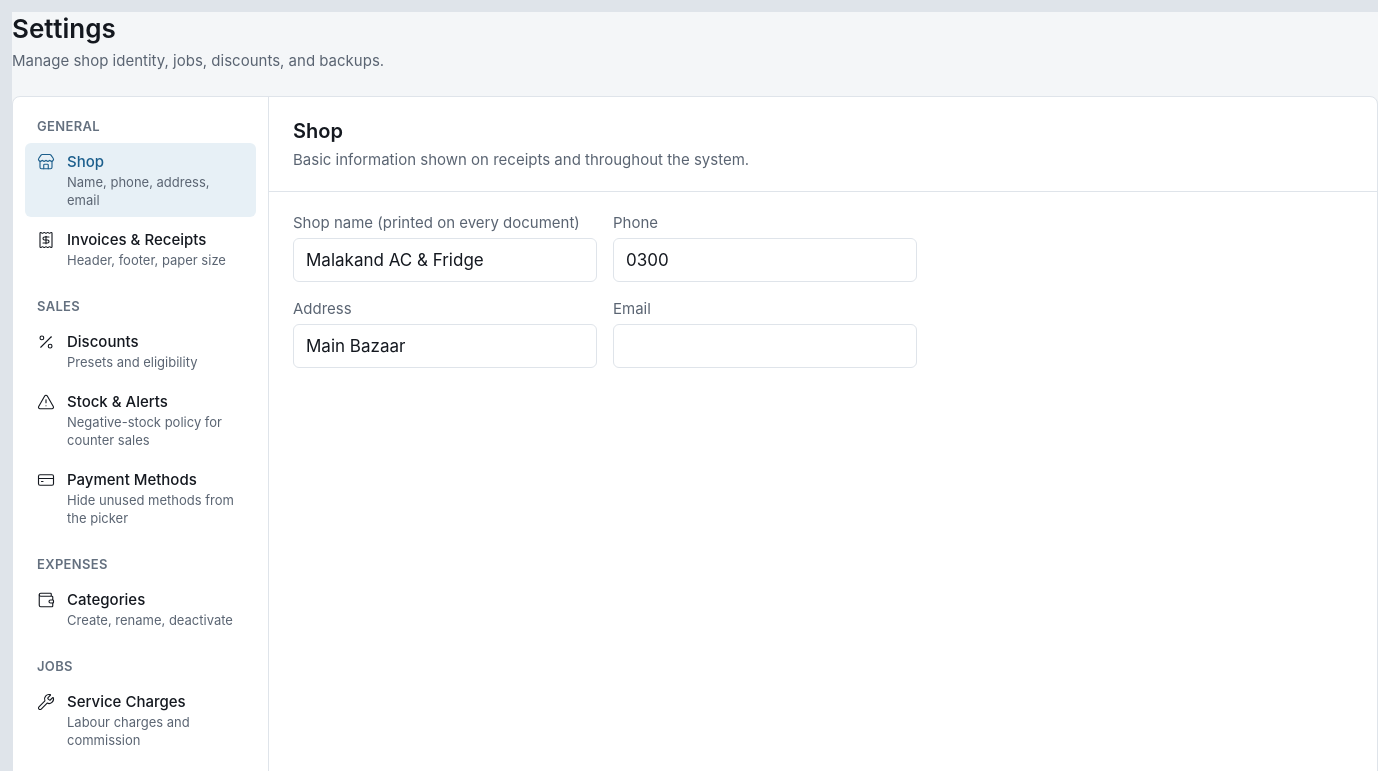
Test: SettingsPage — P16-1b routing (OD-16-11) › clicking "Discounts" in the sub-nav routes to its section and shows its title
Expected: the text "Basic information shown on receipts and throughout the system." is shown, 293,150 -> 749,169
Click the link "Discounts Presets and eligibility": click(117, 351) 37,332 -> 198,370
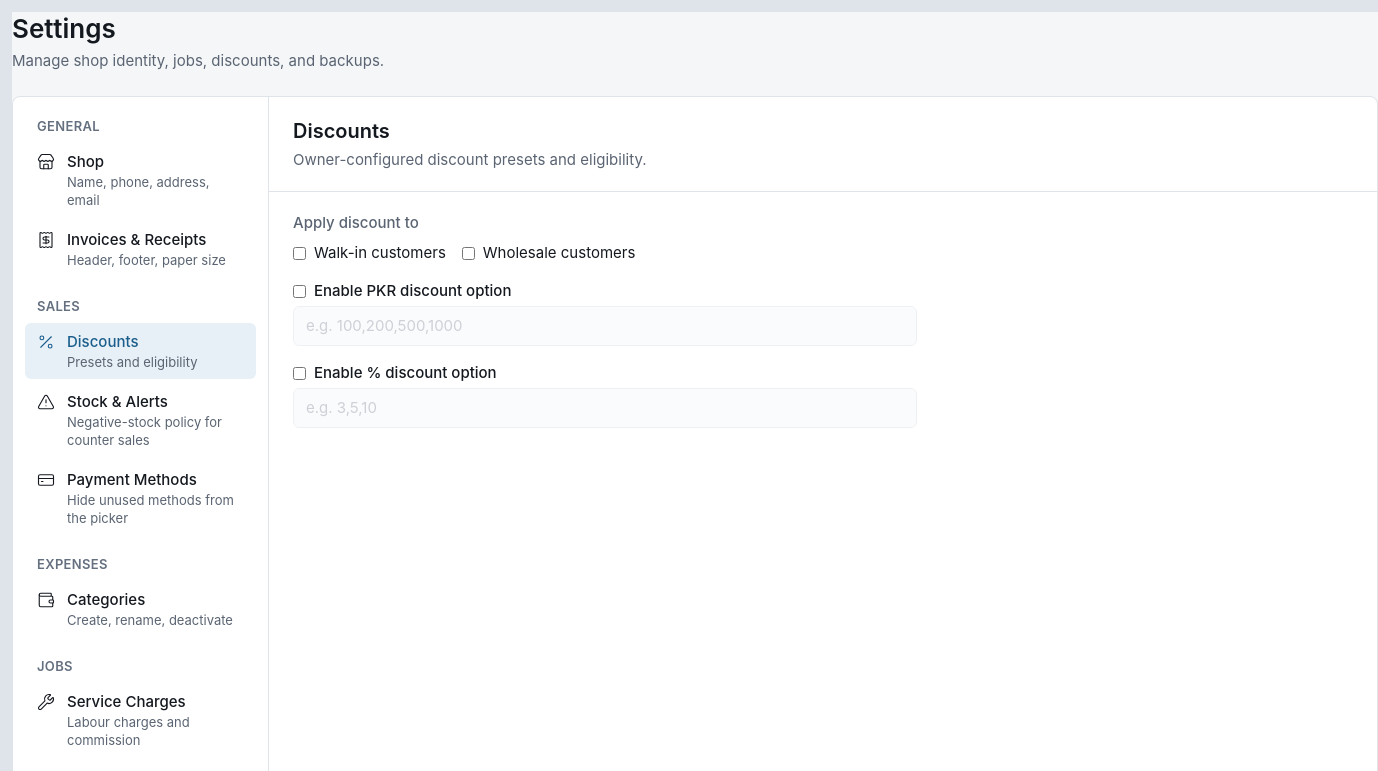
Expected: the heading "Discounts" is shown, 293,119 -> 390,143
